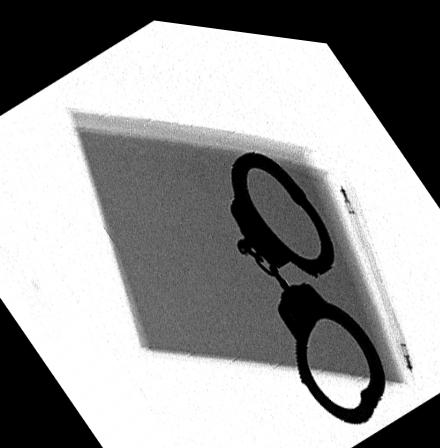HandCuffs: (229, 142, 385, 413)
